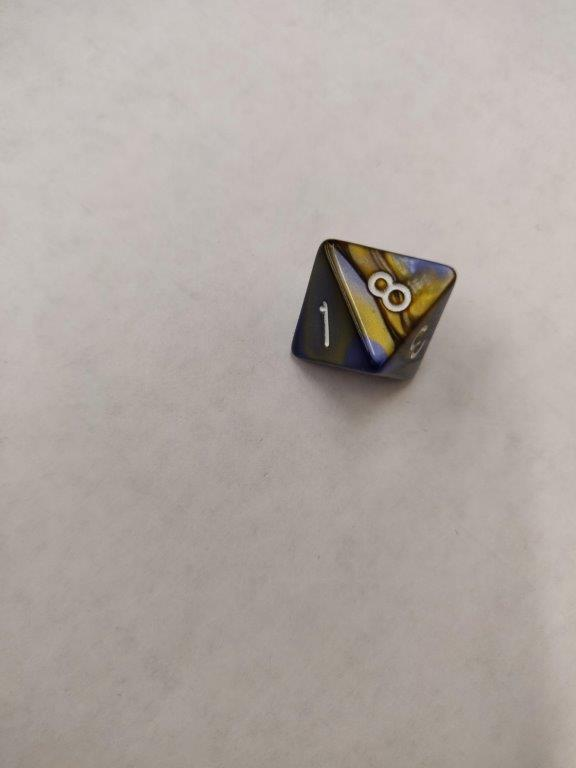d8-8: (284, 235, 458, 387)
